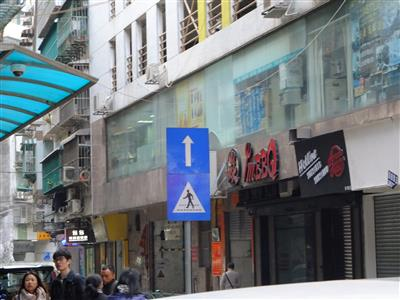oneway: (161, 122, 212, 175)
pedestrianCrossing: (163, 171, 213, 223)
